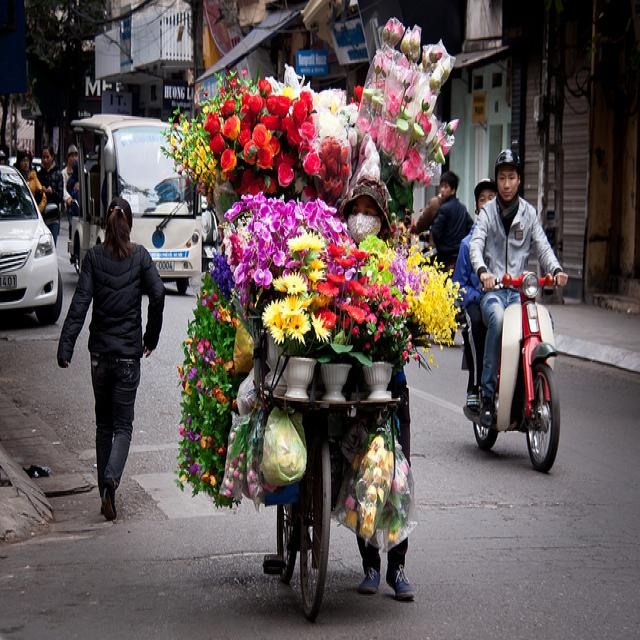motor: (460, 255, 581, 483), (412, 228, 463, 341)
